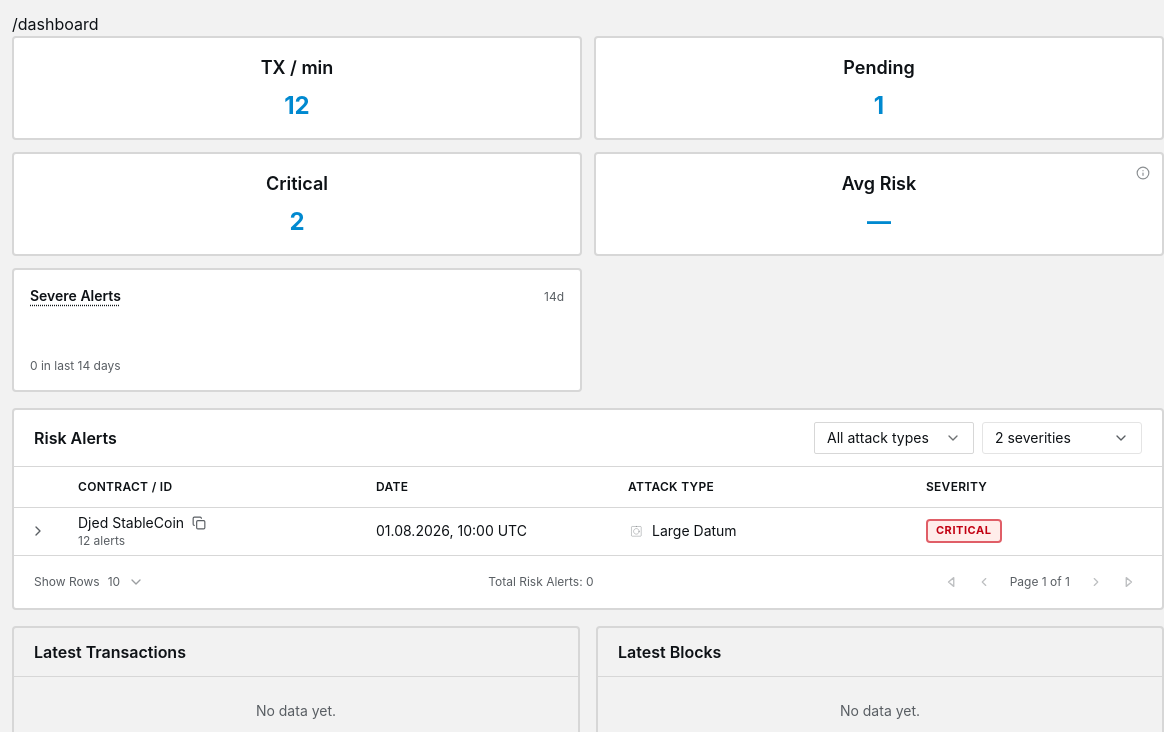
contract grouping › collapses again on a second click
This screenshot has width=1164, height=732.
Click the text "Djed StableCoin" at (131, 523), box [78,513,184,533]
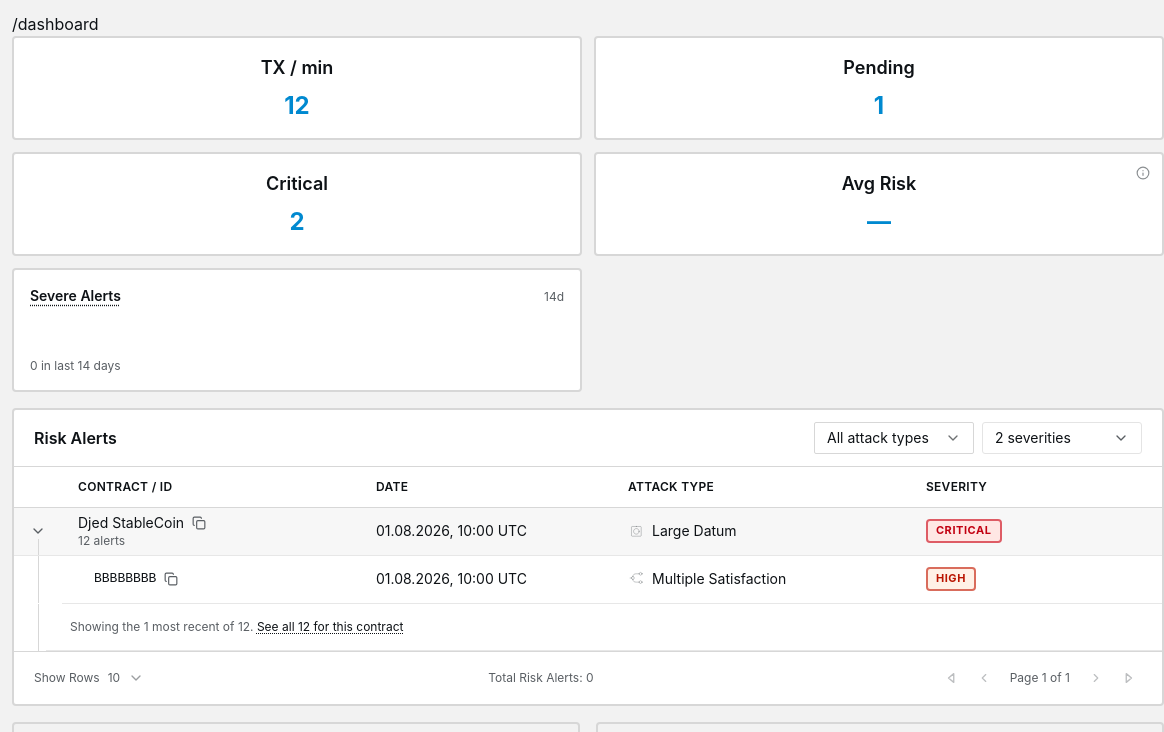
Check: the text "BBBBBBBB" is shown, box [94,570,156,588]
Click the text "Djed StableCoin" at (131, 523), box [78,513,184,533]
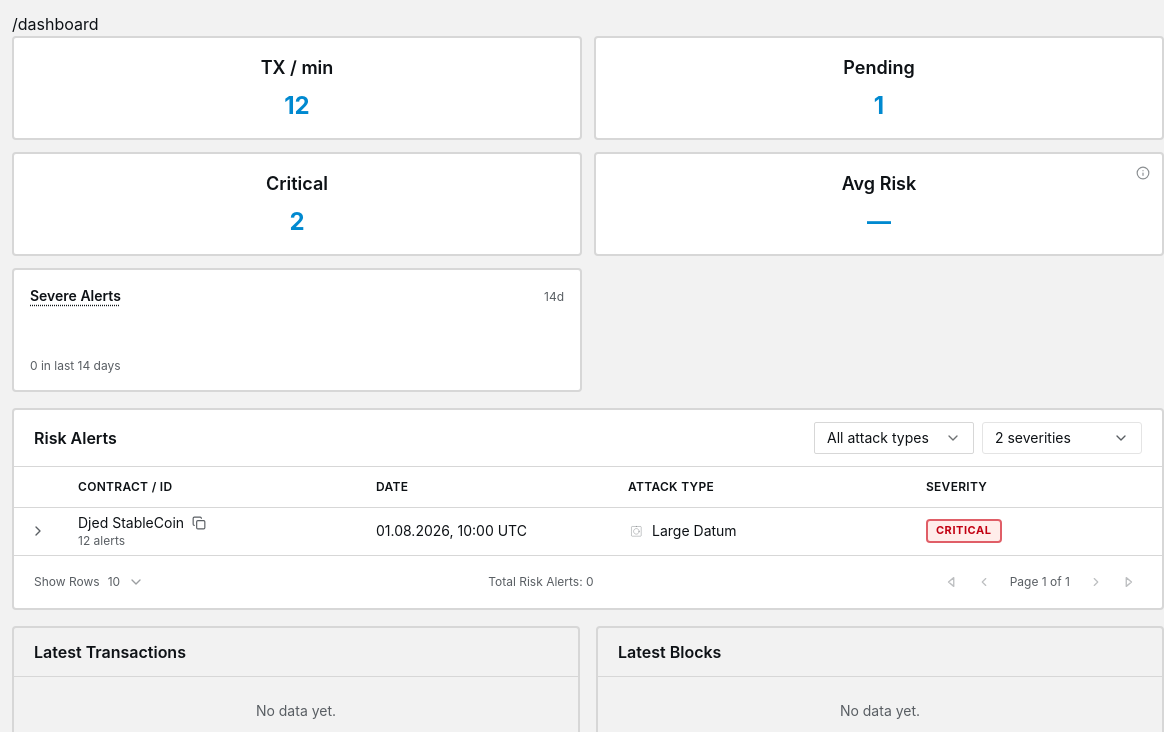
Check: the text "BBBBBBBB" is gone
